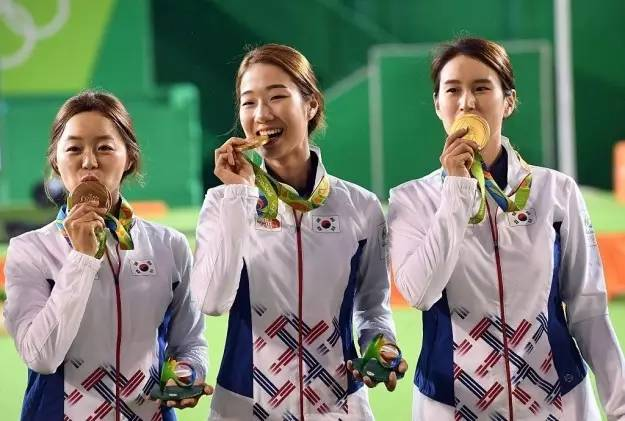face: (59, 112, 128, 202), (239, 66, 305, 155), (442, 59, 505, 146)
